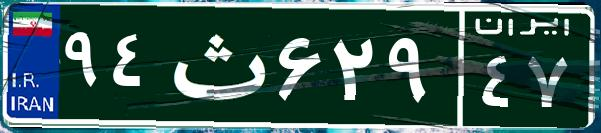2: (330, 28, 385, 110)
4: (475, 38, 525, 113), (110, 28, 158, 105)
6: (273, 28, 330, 110)
7: (525, 38, 570, 115)
9: (385, 28, 445, 110), (57, 26, 110, 107)
ث: (158, 15, 273, 115)
